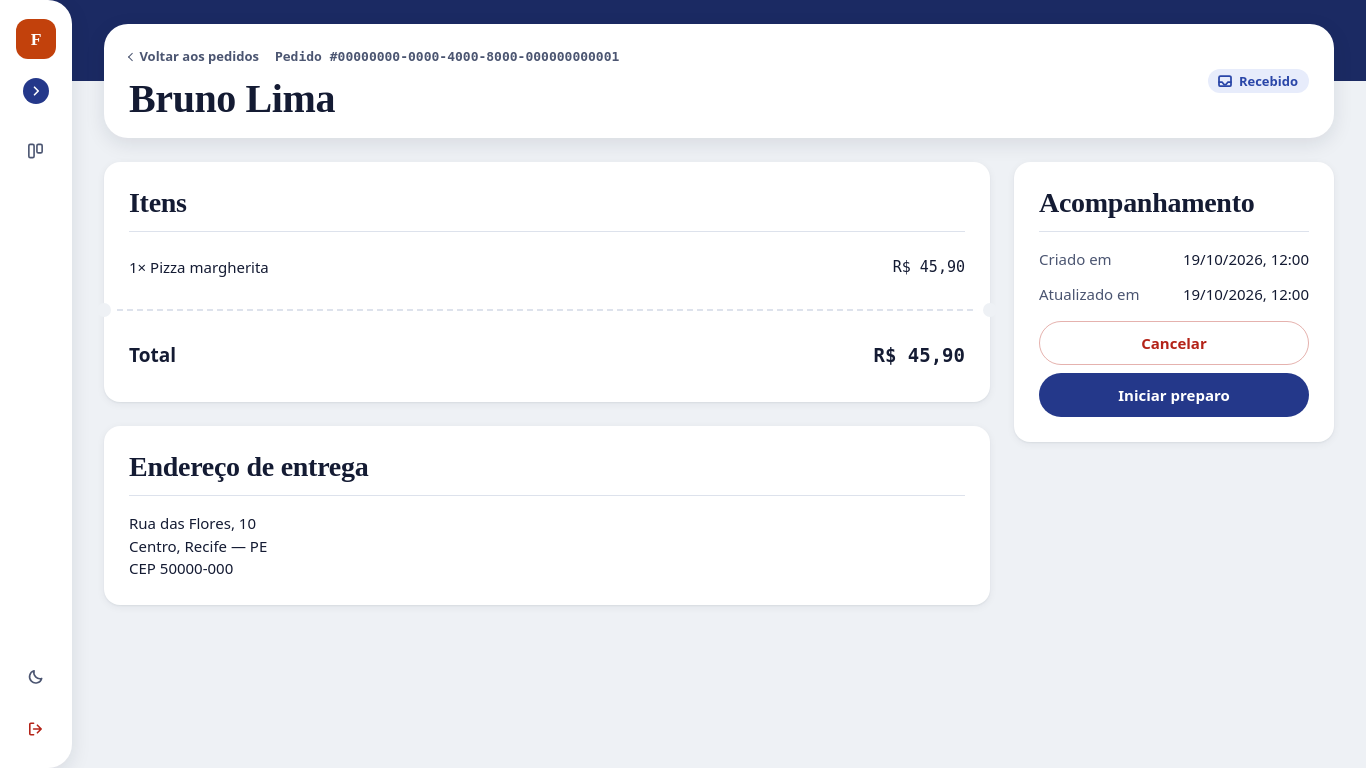
Test: mudança de status › muda o status pela página de detalhe
This screenshot has width=1366, height=768.
Click the button with aria-label "Iniciar preparo para pedido de Bruno Lima" at (1174, 395), box [1039,373,1309,417]
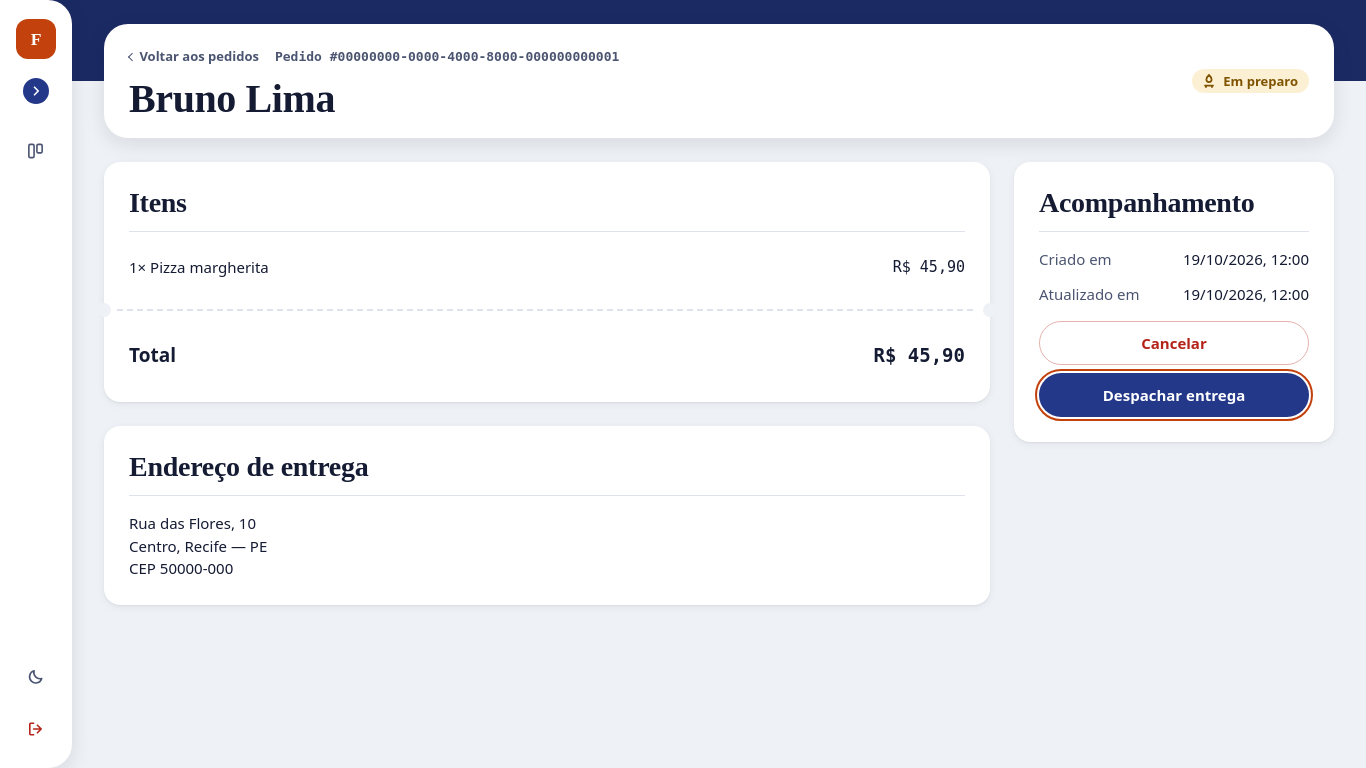
Expected: the button with aria-label "Despachar entrega para pedido de Bruno Lima" is shown, [1039,373,1309,417]
Expected: the text "Em preparo" is shown, [1192,69,1309,93]
